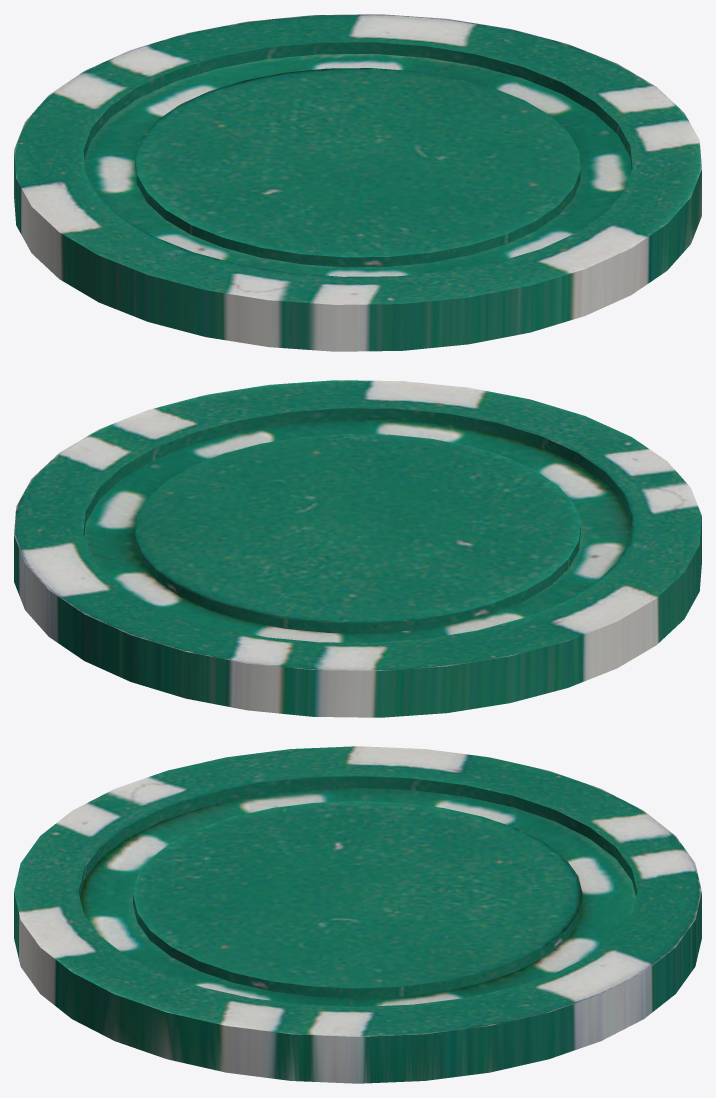
The model's file is chip.fbx.
3 renders of one model, top to bottom at view 1: azimuth 30°, elevation 25°; view 2: azimuth 150°, elevation 25°; view 3: azimuth 270°, elevation 25°, orthographic.
Visible parts, largest first — view 1: Cylinder001; view 2: Cylinder001; view 3: Cylinder001.
Boxes of the visible parts, left/top/right/bottom form: Cylinder001: left=14, top=14, right=701, bottom=351; Cylinder001: left=14, top=380, right=701, bottom=717; Cylinder001: left=14, top=746, right=701, bottom=1083.
Bounding box in the file's own units: 4.4 × 0.33 × 4.4.
